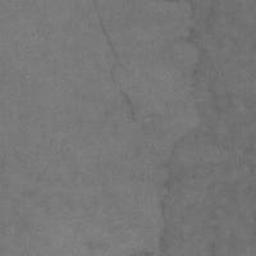Water spot: (156, 0, 256, 256), (93, 0, 138, 124), (86, 239, 104, 251), (131, 250, 151, 256)
